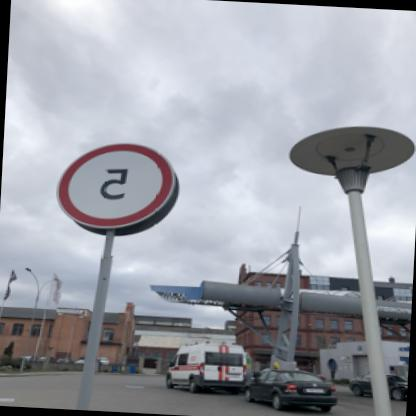speedlimit: (54, 136, 178, 230)
